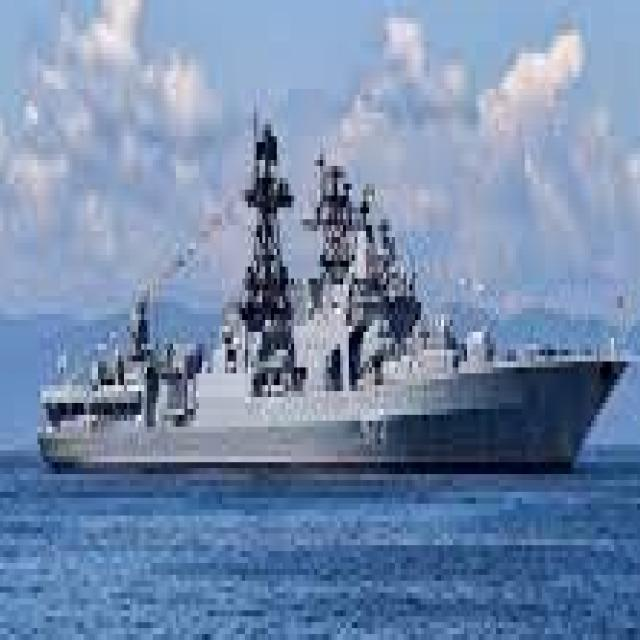navalvessels: (34, 53, 640, 485)
